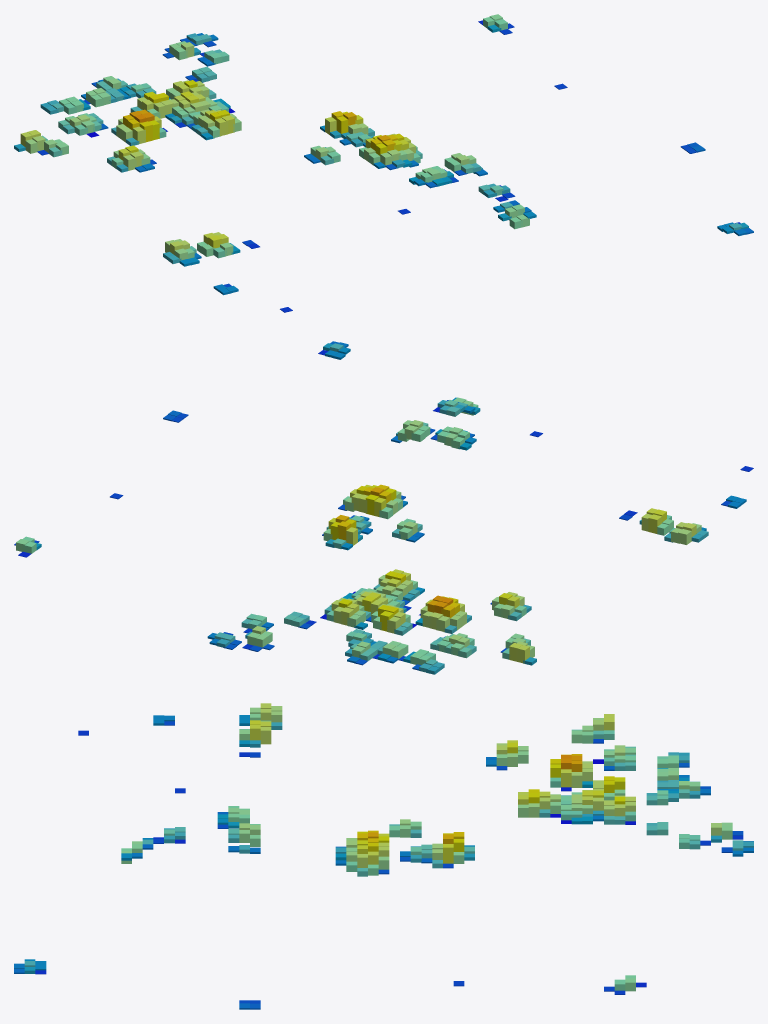
The model's file is population.glb.
The picture shows the model from 3 angles, top to bottom: view 1: azimuth 30°, elevation 25°; view 2: azimuth 150°, elevation 25°; view 3: azimuth 270°, elevation 25°; orthographic projection. The views are drawn at different scales.
Visible parts, largest first — view 1: population; view 2: population; view 3: population.
Boxes of the visible parts, x1,y1,x2,y2 form: population: (14,14,753,312); population: (14,341,753,674); population: (14,703,753,1009).
Bounding box in the file's own units: 6233 × 562 × 6879.
